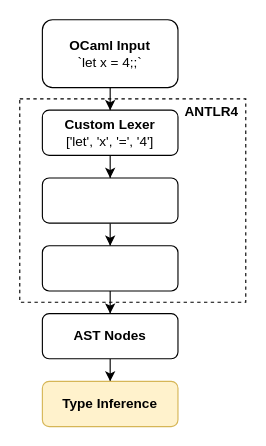
This 266x446 diagram has some shape labels left out. The box of each missing label's shape, as (x1, y1, x2, y2) in pixels:
Custom Parser AST: (41, 177, 178, 223)
Custom Visitor: (41, 245, 178, 291)
